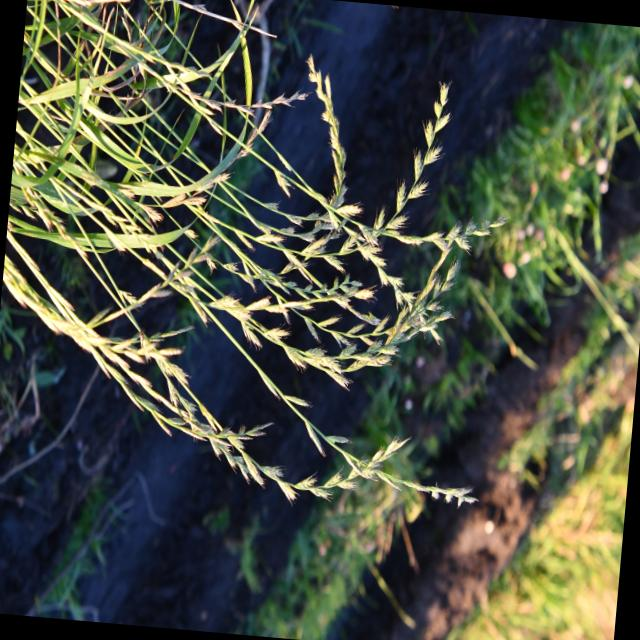Lolium: (0, 0, 527, 523), (126, 334, 417, 508), (188, 74, 452, 232)
